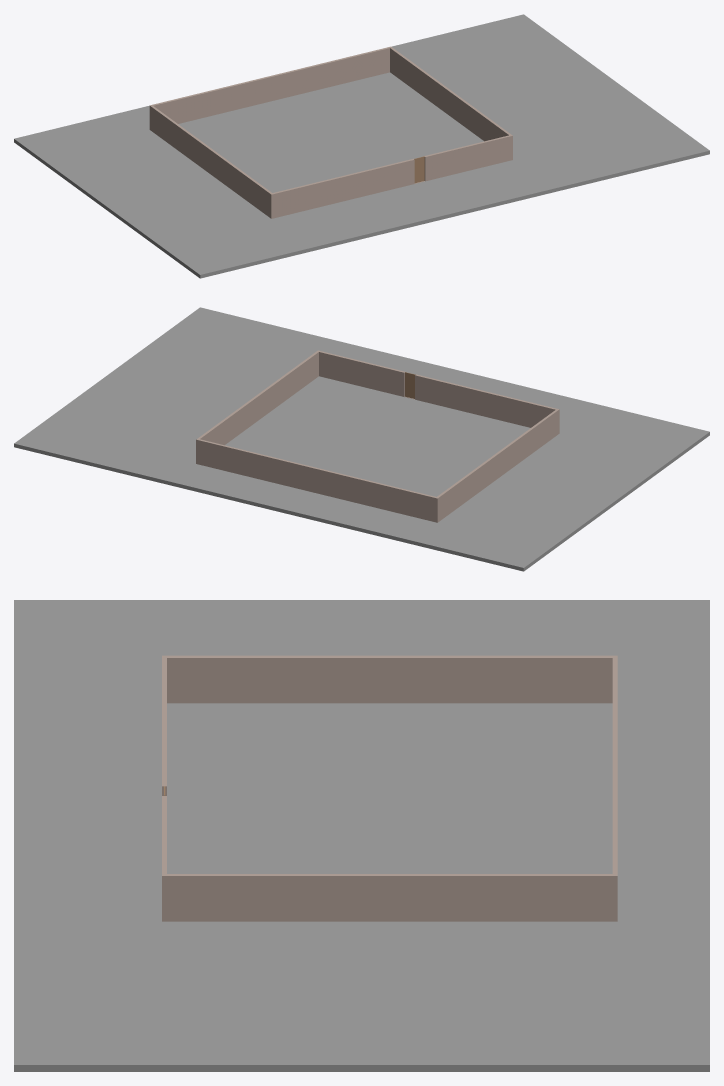
The model's file is conveniens_store.gltf.
The picture shows the model from 3 angles, top to bottom: view 1: azimuth 30°, elevation 25°; view 2: azimuth 150°, elevation 25°; view 3: azimuth 270°, elevation 25°; orthographic projection. The views are drawn at different scales.
Visible parts, largest first — view 1: Map_Ground-col, wall_01-col; view 2: Map_Ground-col, wall_01-col; view 3: Map_Ground-col, wall_01-col.
Boxes of the visible parts, x1,y1,x2,y2 form: Map_Ground-col: (14, 14, 709, 278); wall_01-col: (149, 46, 512, 218); Map_Ground-col: (14, 307, 709, 571); wall_01-col: (196, 350, 559, 522); Map_Ground-col: (14, 600, 709, 1071); wall_01-col: (162, 655, 617, 921).
Bounding box in the file's own units: 43.88 × 2.31 × 27.75.
